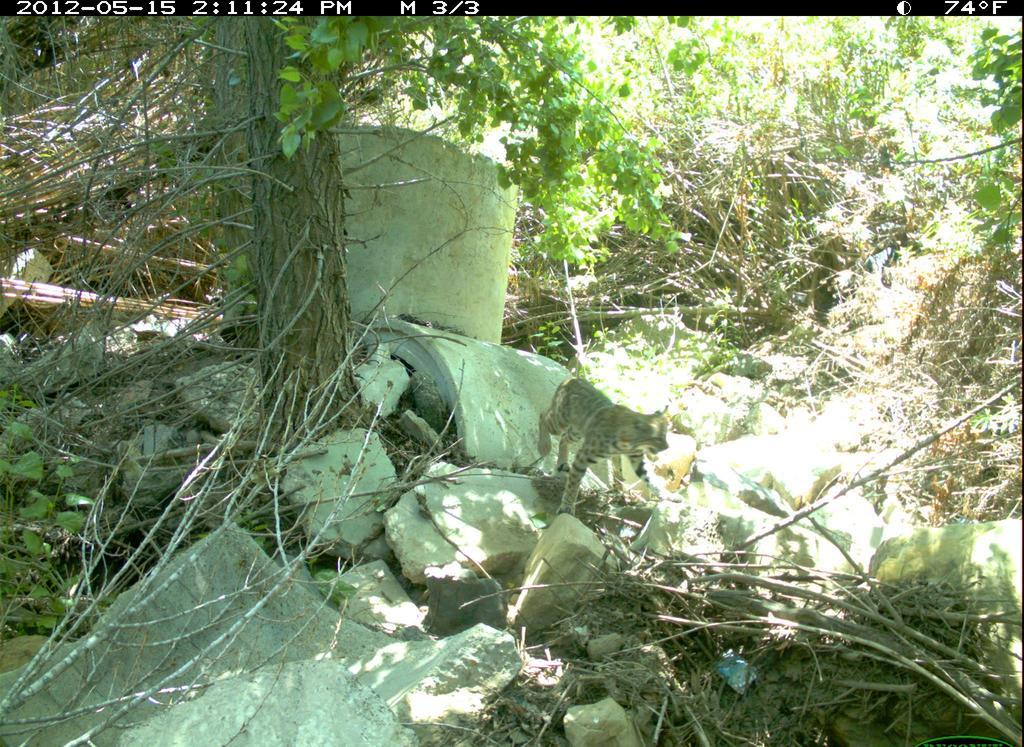bobcat: (528, 374, 684, 533)
